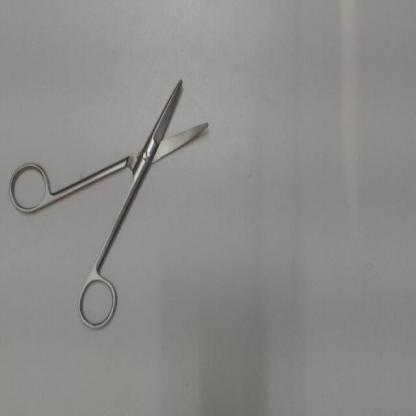Curved Mayo Scissors: (4, 63, 218, 337)
